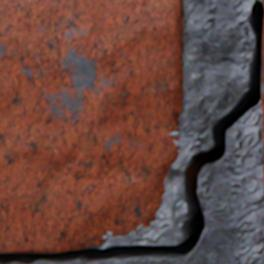brick: (0, 0, 184, 252), (261, 23, 263, 146), (262, 152, 263, 180)
crack: (0, 2, 263, 263)
